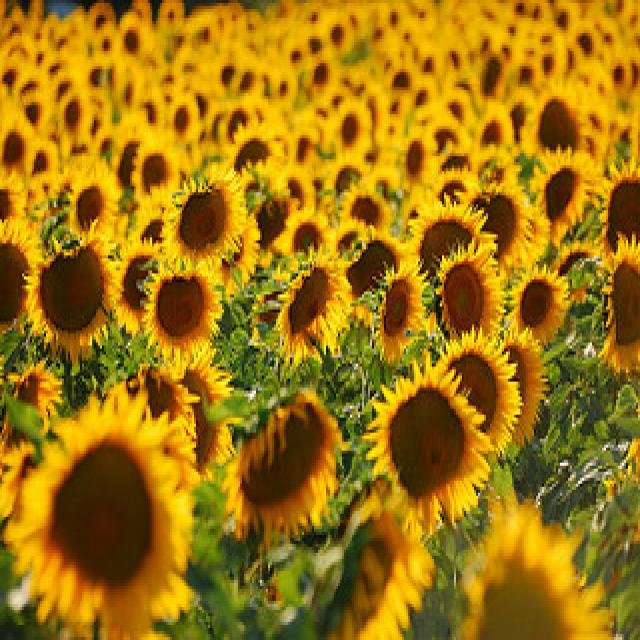sunflower: (15, 400, 193, 634), (223, 366, 343, 550), (362, 370, 476, 526), (442, 324, 524, 474), (33, 226, 119, 360), (141, 258, 229, 360), (159, 174, 249, 256), (456, 188, 530, 284), (432, 251, 498, 356), (602, 234, 640, 415), (272, 258, 340, 346), (531, 87, 591, 174), (518, 256, 568, 352), (374, 266, 414, 353), (329, 102, 371, 165), (399, 132, 435, 192), (54, 89, 86, 142), (120, 16, 148, 64), (307, 56, 333, 100)
